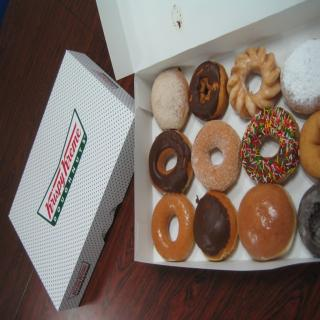Doughnut: (149, 47, 320, 254)
